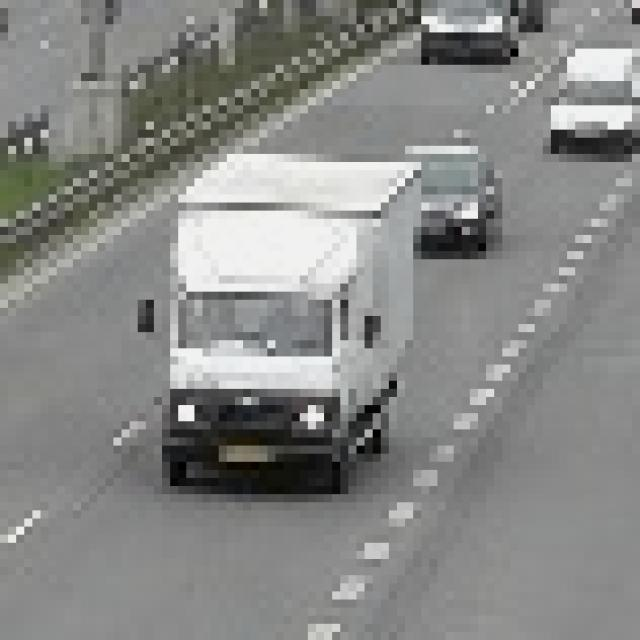truck: (131, 147, 406, 487)
